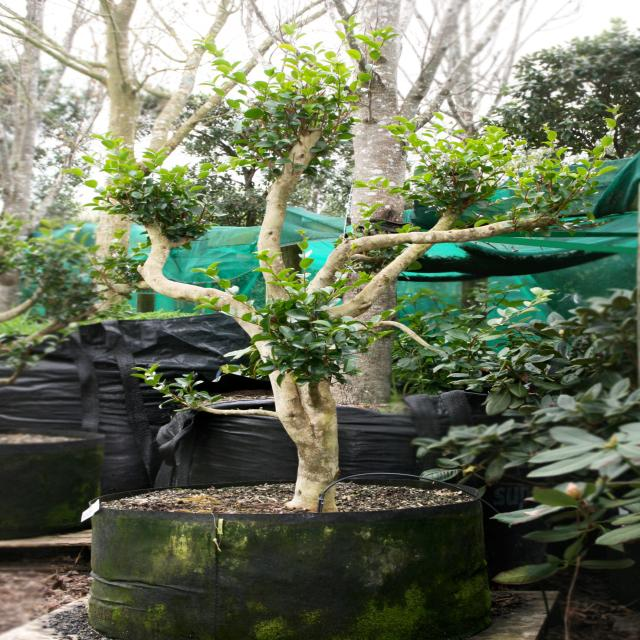Camellia Moonlight: (77, 20, 640, 506)
